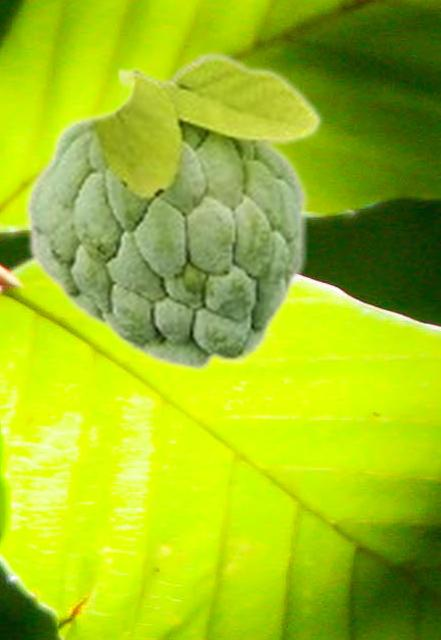atis: (21, 50, 323, 372)
